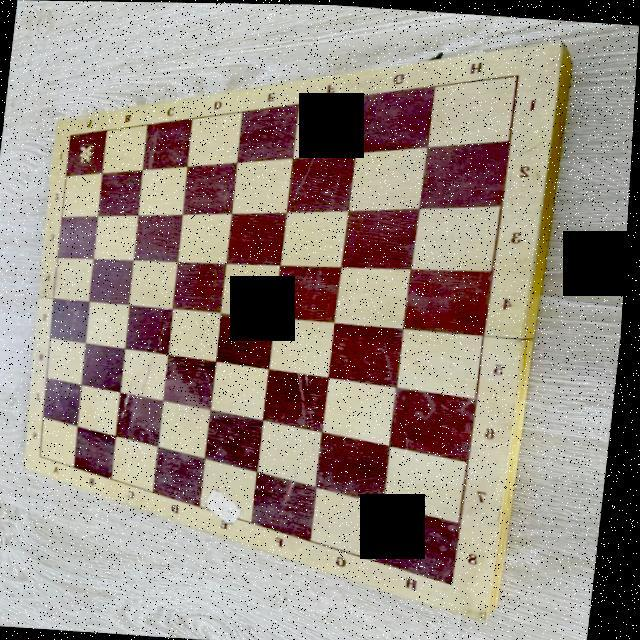chess-table-corners: (507, 64, 528, 85), (449, 576, 467, 589), (64, 132, 78, 140), (41, 452, 50, 460)
